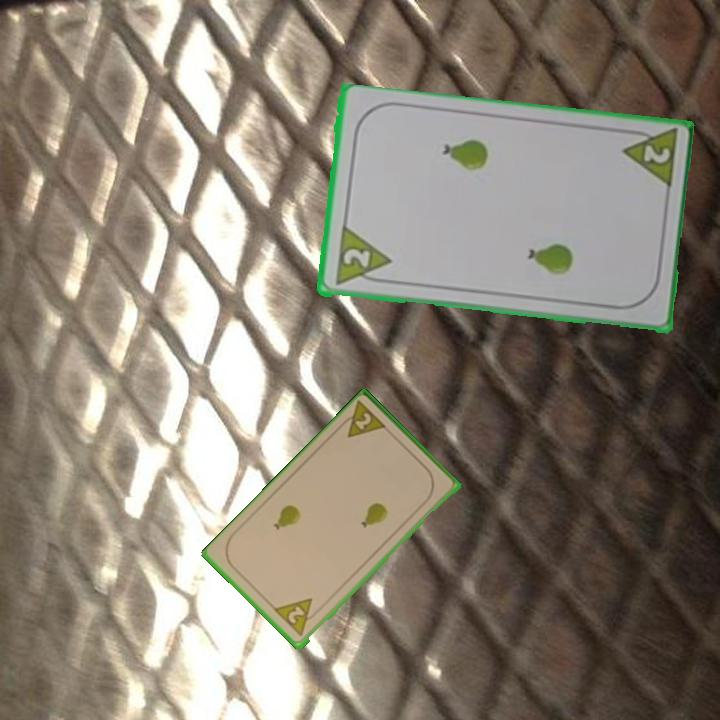2p: (618, 126, 680, 193), (331, 225, 393, 289), (335, 398, 390, 441), (271, 595, 323, 640)
